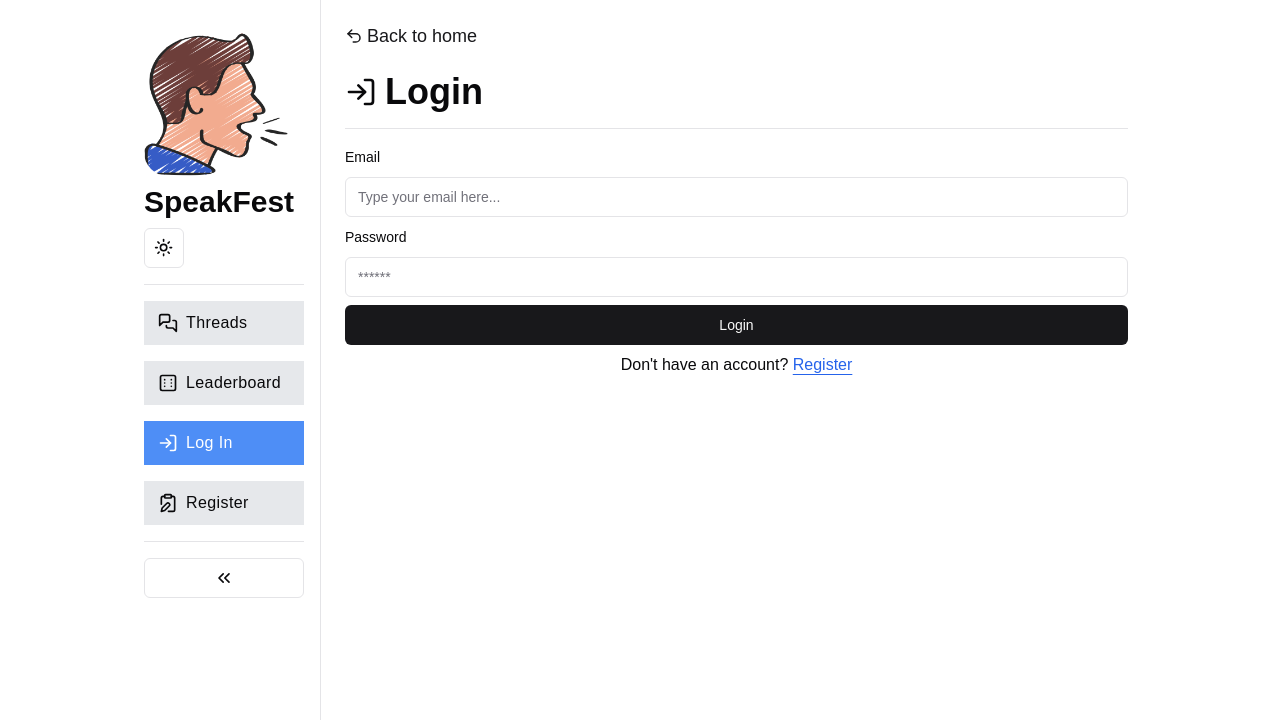
Scenario: Login spec › should display error message & disabled button login if email pattern is not valid
Type "zeta@gmail.com" into the field labelled "Email" at (737, 197), box [345,177,1128,217]
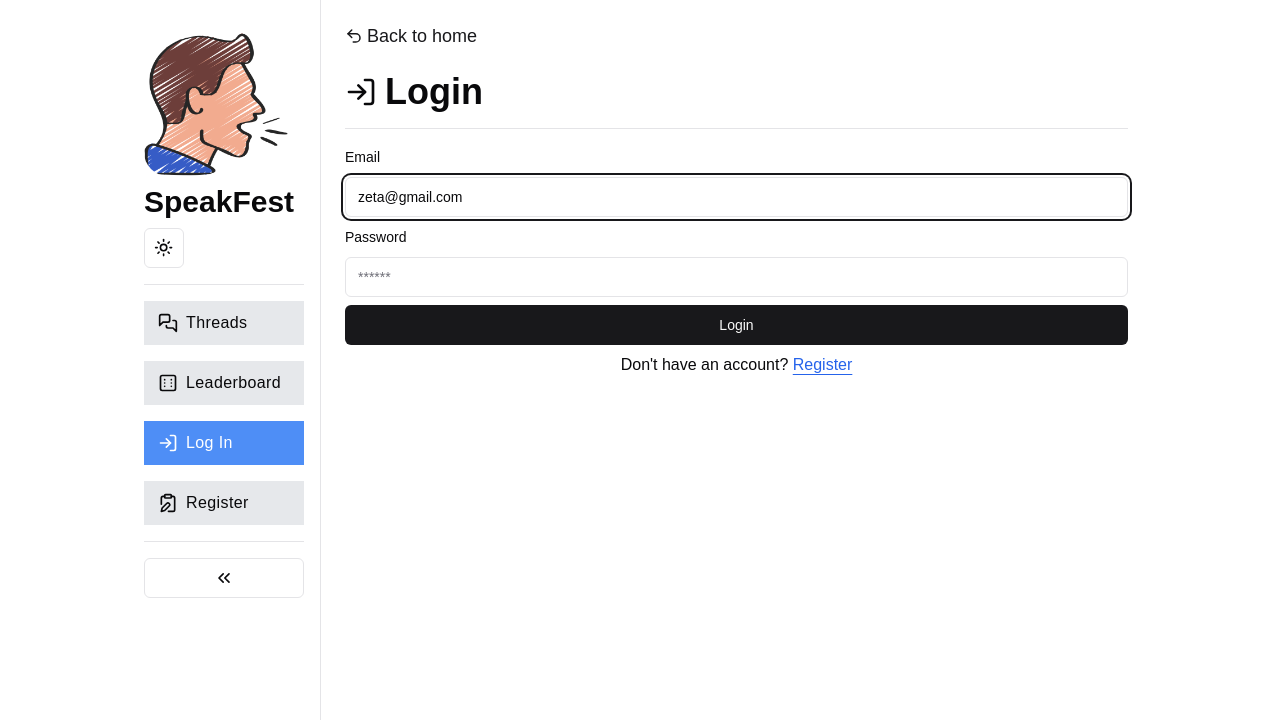
Submit the form, box [345,145,1128,345]
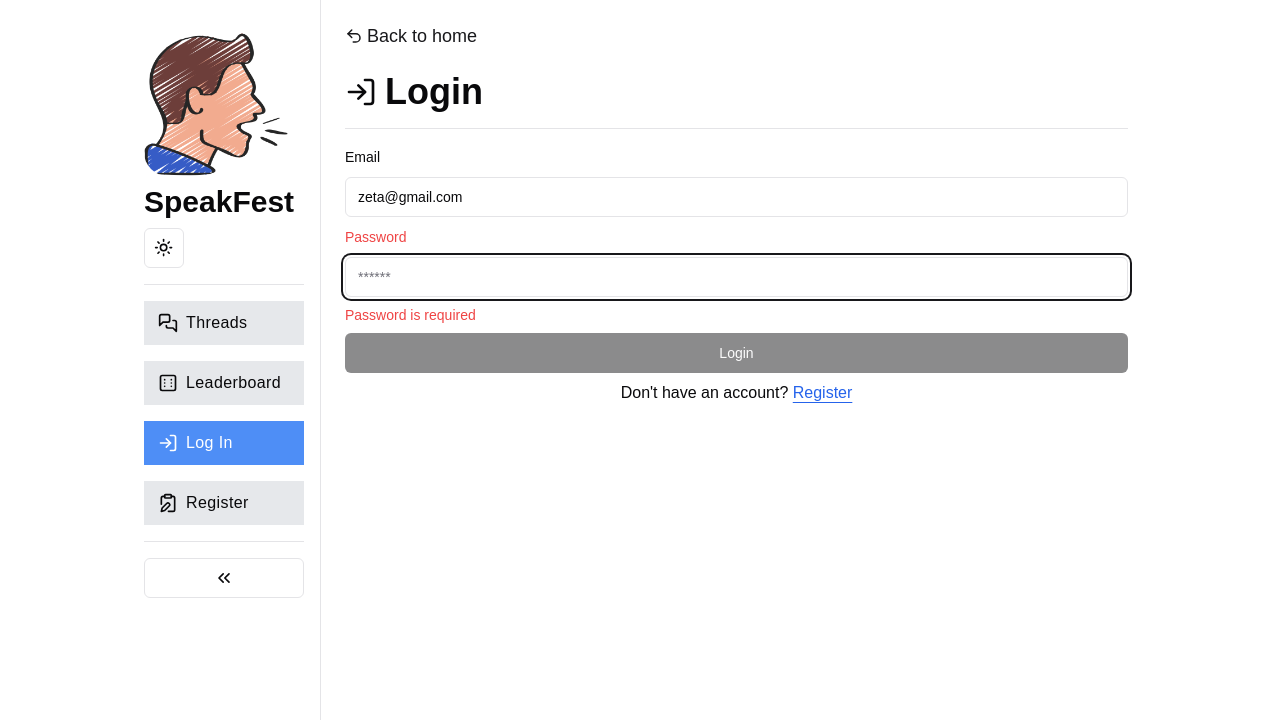
Expected: the button without text below "SpeakFest" is disabled, [144,228,184,268]
Expected: the text "Password is required" is shown, [345,307,476,323]
